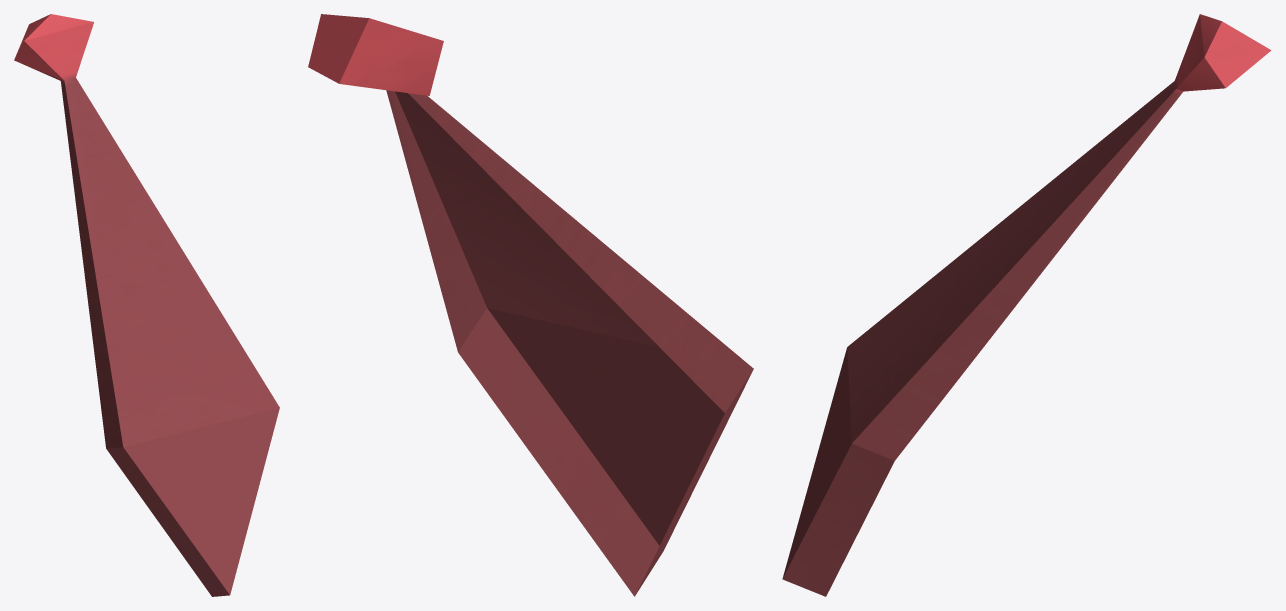
File: Tie.FBX
3 renders of one model, left to right at view 1: azimuth 30°, elevation 25°; view 2: azimuth 150°, elevation 25°; view 3: azimuth 270°, elevation 25°, orthographic. The views are drawn at different scales.
Parts seen in each view (by area): view 1: Tie; view 2: Tie; view 3: Tie.
Boxes of the visible parts, box(x1,y1,x2,y2) form: Tie: box(14, 14, 279, 596); Tie: box(308, 14, 753, 596); Tie: box(782, 14, 1271, 596).
Size of the model in its own units: 47.44 by 103 by 133.
1 material, 1 textured.
